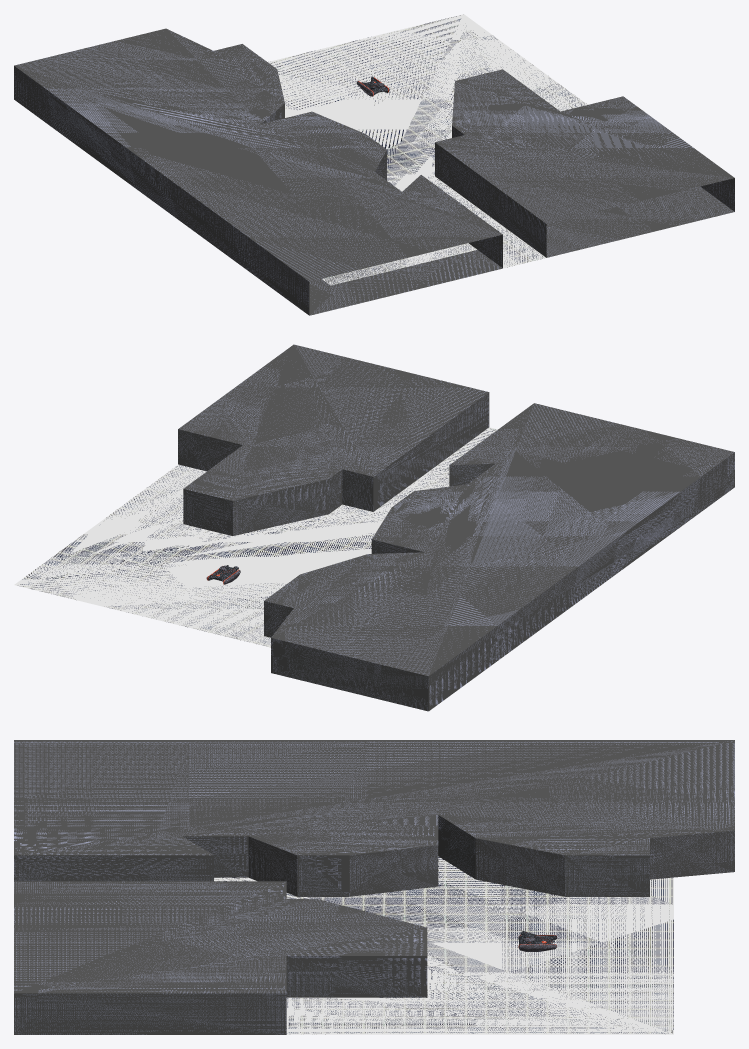
3 views of the same model, one above another, from view 1: azimuth 30°, elevation 25°; view 2: azimuth 150°, elevation 25°; view 3: azimuth 270°, elevation 25° (orthographic). The views are drawn at different scales.
Parts seen in each view (by area): view 1: SketchUp (×3); view 2: SketchUp (×3); view 3: SketchUp (×3).
Part boxes in pixels (box(x1,y1,x2,y2)): SketchUp (×3): box(14, 14, 734, 315); SketchUp (×3): box(14, 344, 734, 711); SketchUp (×3): box(14, 740, 734, 1034).
Bounding box in the file's own units: 3519 × 4232 × 269.
8 materials, 1 textured.
